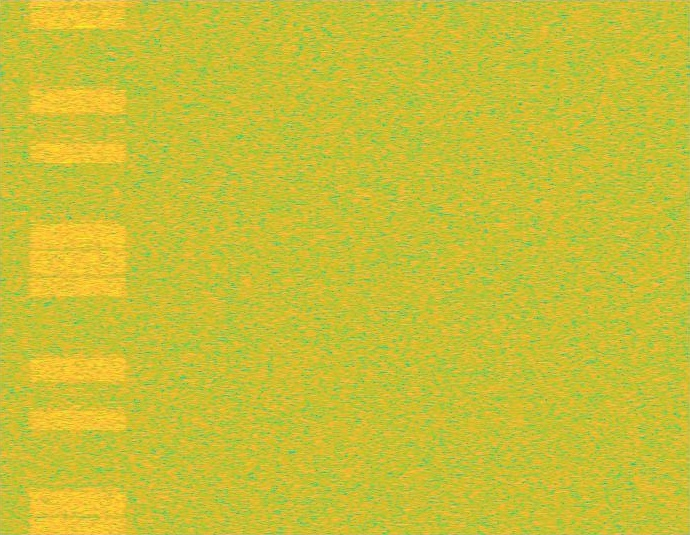LTE: (26, 0, 130, 534)
Radar: (76, 0, 90, 534)
